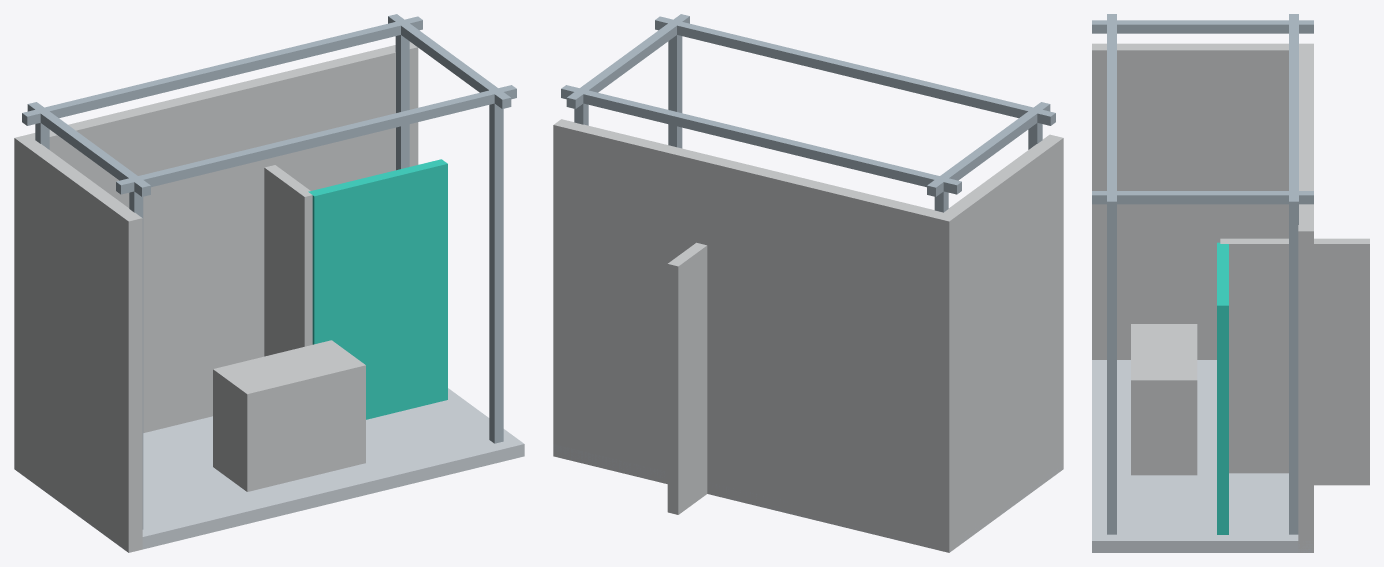
The picture shows the model from 3 angles, left to right: view 1: azimuth 30°, elevation 25°; view 2: azimuth 150°, elevation 25°; view 3: azimuth 270°, elevation 25°; orthographic projection. The views are drawn at different scales.
Visible parts, largest first — view 1: Exhibition Booth Concept; view 2: Exhibition Booth Concept; view 3: Exhibition Booth Concept.
Boxes of the visible parts, x1,y1,x2,y2 form: Exhibition Booth Concept: [14, 14, 524, 552]; Exhibition Booth Concept: [553, 14, 1063, 552]; Exhibition Booth Concept: [1092, 14, 1369, 552].
Size of the model in its own units: 4 by 3.49 by 2.5.
